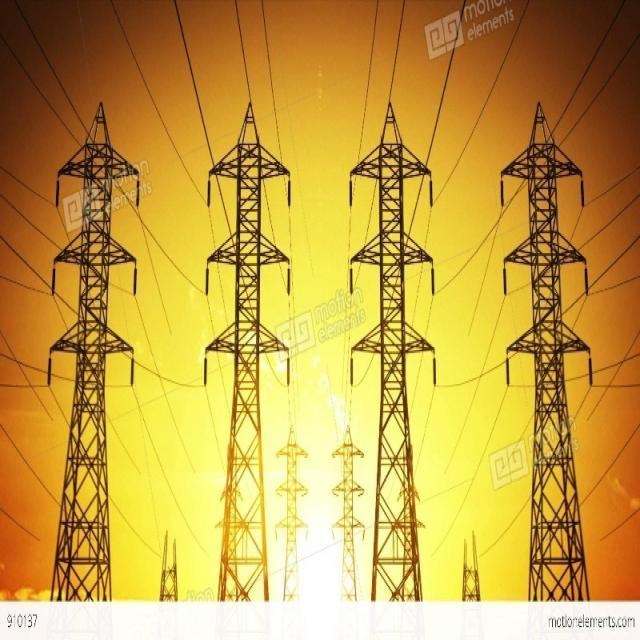non-critical vegetation: (502, 111, 598, 602), (44, 98, 130, 607), (350, 114, 432, 600), (204, 104, 280, 609), (328, 418, 367, 602), (276, 418, 305, 592)
